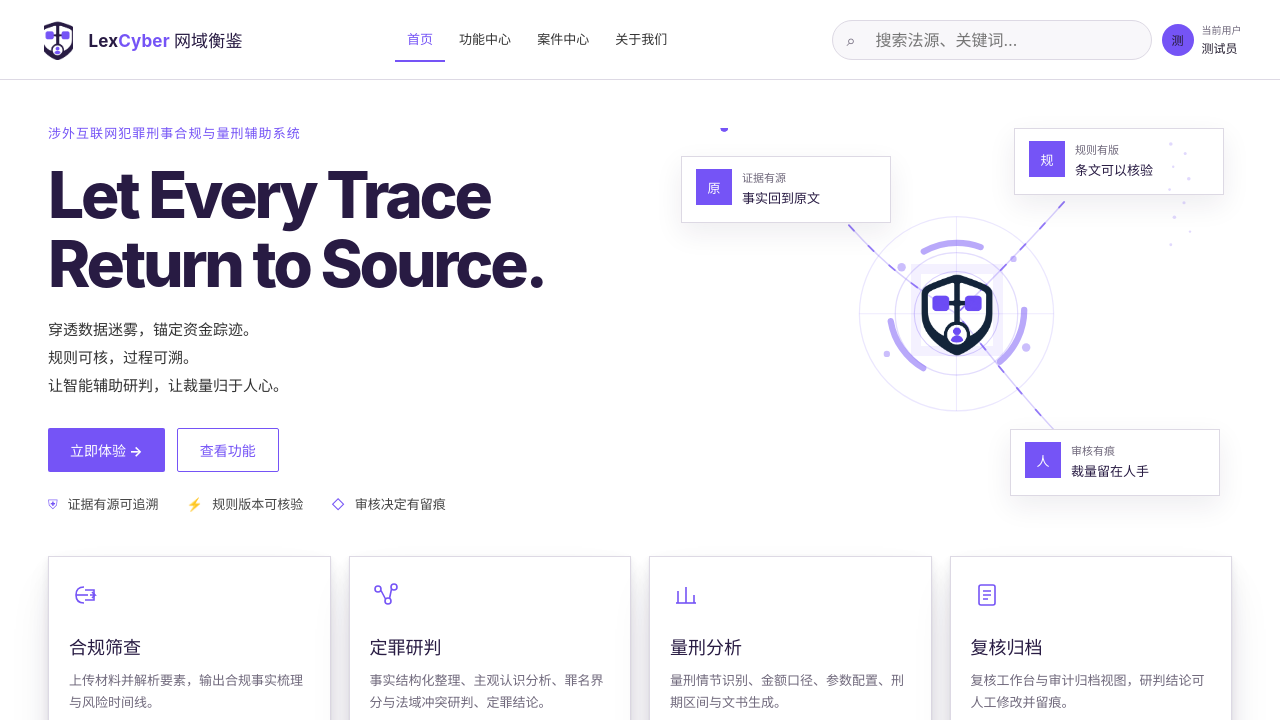
it: product shell › keeps 功能中心 as a menu, not a standalone page
Click the button "功能中心" at (485, 40), box [447,18,523,62]
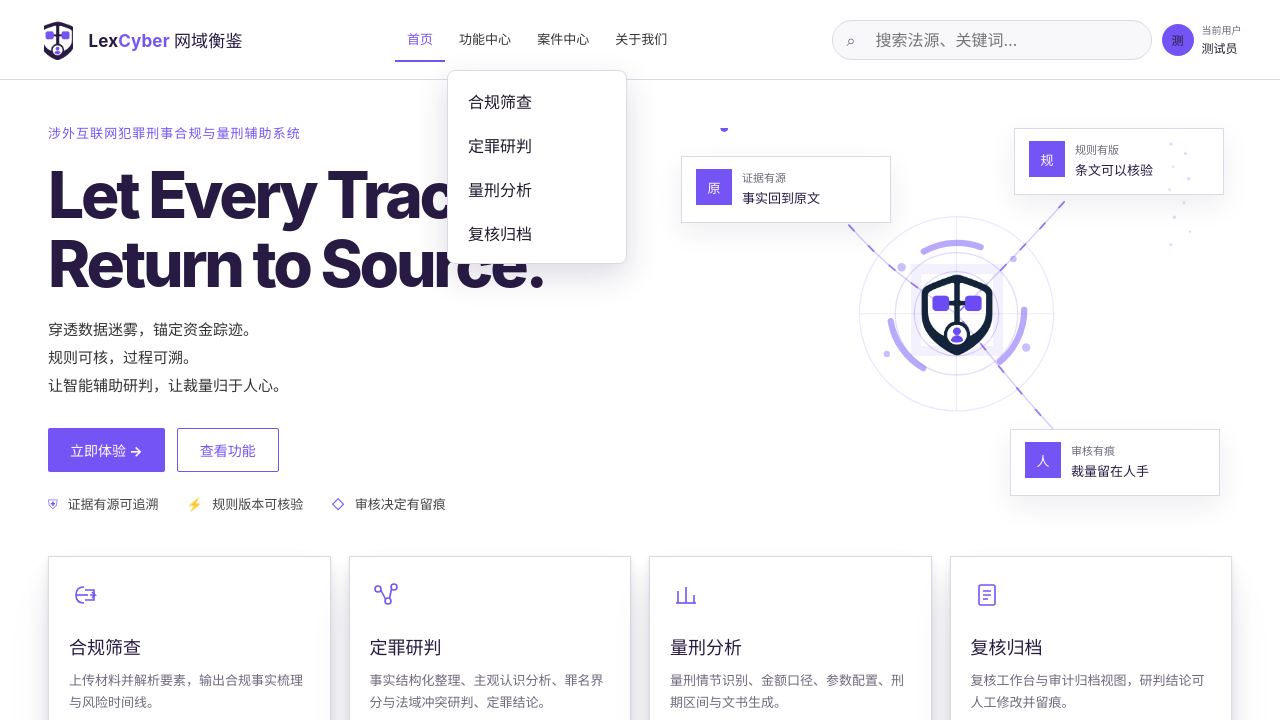
Expected: the menu with id "functions-menu" is shown, [447,70,627,264]
Expected: the menu with id "functions-menu" shows "合规筛查", [456,79,618,123]
Expected: the menu with id "functions-menu" shows "定罪研判", [456,123,618,167]
